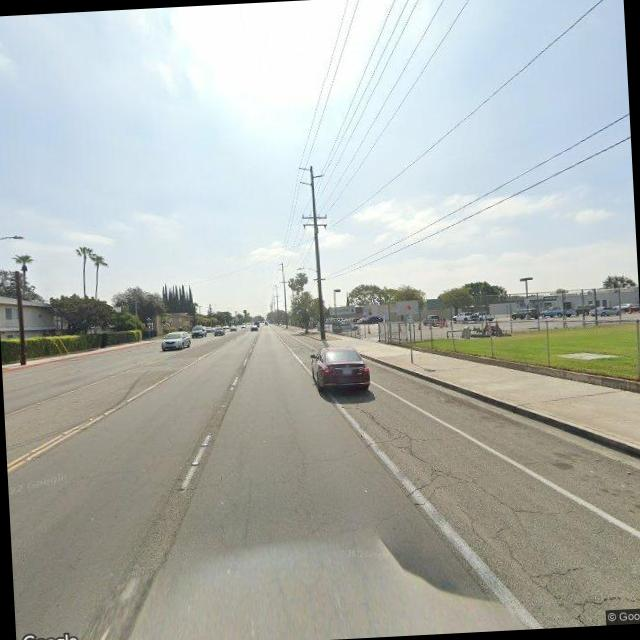crack: (363, 405, 640, 636)
